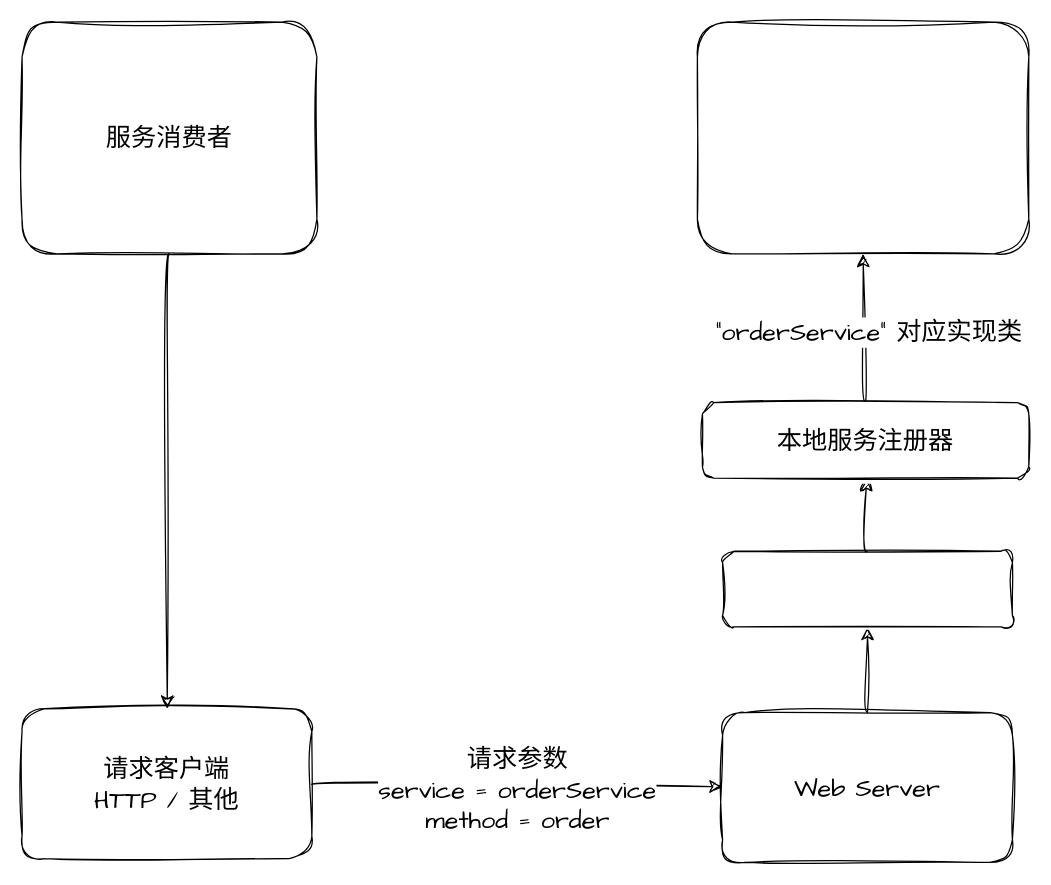
The diagram is 1051 pixels wide and 885 high, and some of its shapes have lost their labels. The centre of each missing label's shape, as x and y in pixels:
"服务提供者 (OrderService#order)" goes at (862,137).
"请求处理器" goes at (866,588).
